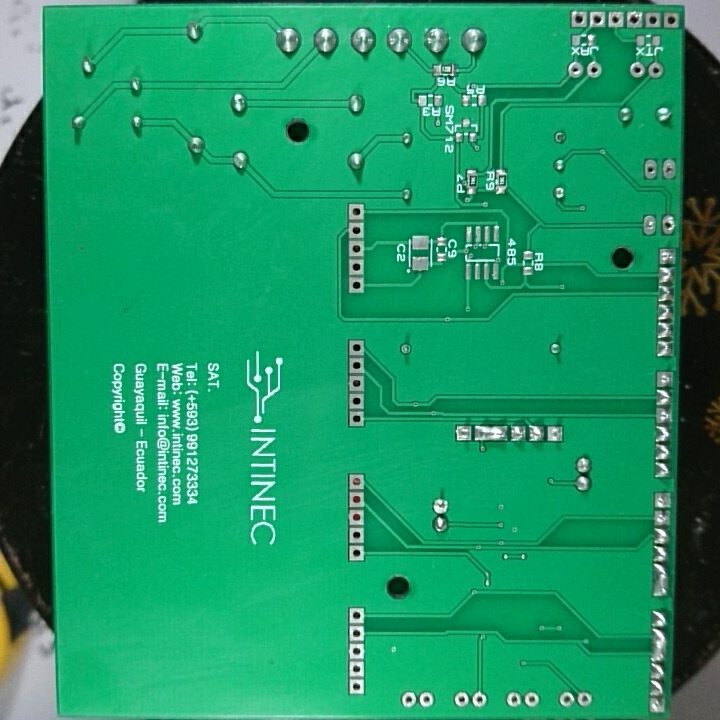F: (544, 422, 569, 446), (453, 421, 473, 450), (641, 156, 658, 188), (429, 493, 452, 516), (345, 272, 367, 296), (653, 367, 676, 389), (649, 509, 677, 527), (566, 58, 586, 83), (643, 8, 662, 34), (585, 57, 602, 85), (557, 687, 576, 712), (641, 212, 657, 241), (656, 246, 678, 267), (398, 689, 419, 711), (606, 9, 625, 33), (624, 8, 642, 33), (652, 491, 673, 512), (568, 8, 588, 30), (653, 405, 675, 425), (648, 695, 668, 716), (346, 238, 367, 258), (347, 604, 367, 625), (522, 689, 541, 711), (574, 690, 593, 712), (347, 218, 366, 240), (587, 9, 605, 32), (659, 209, 674, 236), (347, 640, 367, 660), (417, 689, 436, 710), (345, 338, 366, 357), (347, 409, 368, 428), (346, 507, 367, 526), (661, 156, 672, 192), (470, 689, 488, 711), (453, 689, 470, 712), (347, 391, 367, 410), (347, 470, 366, 490), (347, 525, 367, 544), (346, 678, 366, 697), (347, 200, 365, 221), (662, 9, 676, 35), (348, 490, 367, 509), (347, 623, 366, 642), (347, 543, 365, 563), (347, 660, 367, 678), (503, 691, 521, 710), (347, 258, 367, 275), (347, 357, 365, 375), (347, 374, 364, 393), (630, 60, 644, 82), (397, 340, 414, 358), (553, 127, 569, 146), (645, 58, 656, 84)
P: (473, 420, 510, 450), (650, 562, 669, 610), (649, 628, 670, 663)
